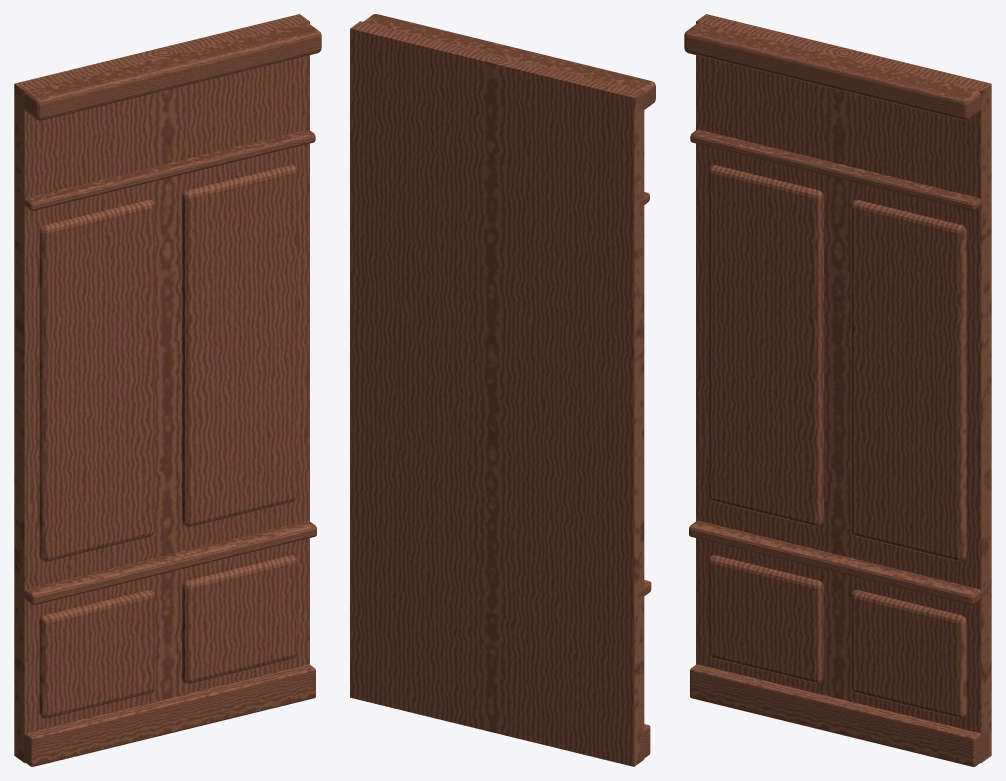
File: panel_wall.glb
3 views of the same model, side by side, from view 1: azimuth 30°, elevation 25°; view 2: azimuth 150°, elevation 25°; view 3: azimuth 330°, elevation 25° (orthographic).
Visible parts, largest first — view 1: panel_wall; view 2: panel_wall; view 3: panel_wall.
Part boxes in pixels (x1,y1,x2,y2): panel_wall: (14, 14, 321, 766); panel_wall: (350, 14, 655, 766); panel_wall: (684, 14, 991, 766).
Size of the model in its own units: 16 by 36 by 2.3.
1 material, 1 textured.
